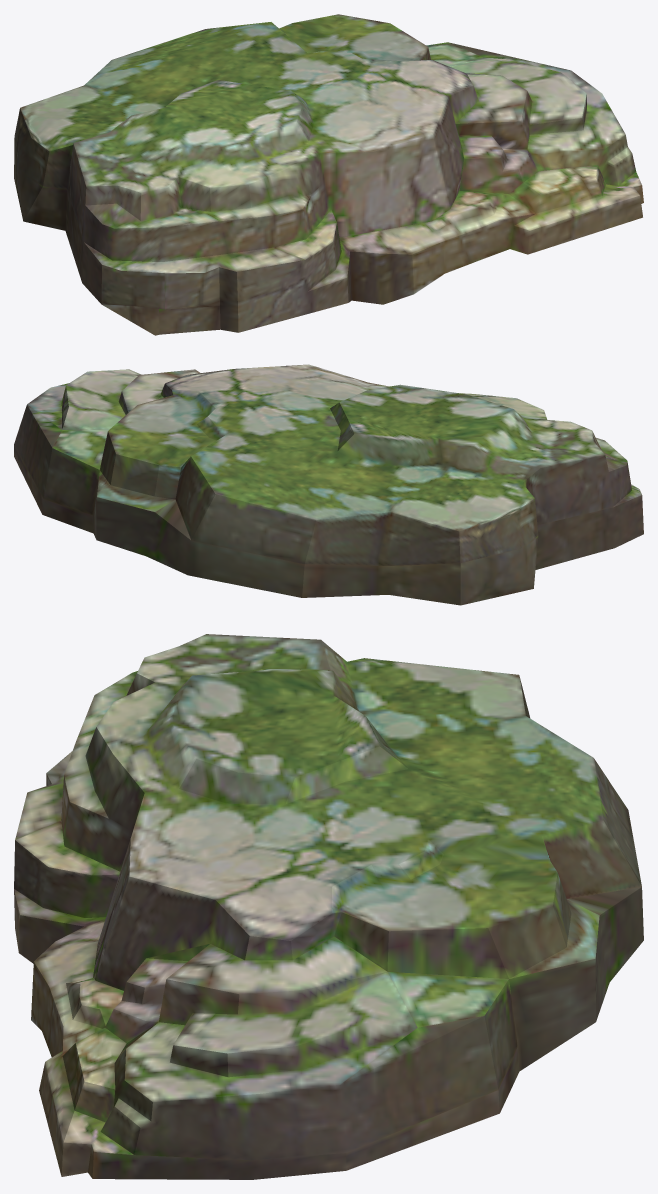
Rendered from S_Rock_Green077_H1.FBX.
3 renders of one model, top to bottom at view 1: azimuth 30°, elevation 25°; view 2: azimuth 150°, elevation 25°; view 3: azimuth 270°, elevation 25°, orthographic. The views are drawn at different scales.
Visible parts, largest first — view 1: S_Rock_Green077_H1; view 2: S_Rock_Green077_H1; view 3: S_Rock_Green077_H1.
Part boxes in pixels (x1,y1,x2,y2): S_Rock_Green077_H1: (14,14,643,335); S_Rock_Green077_H1: (14,364,643,605); S_Rock_Green077_H1: (14,634,643,1179).
Size of the model in its own units: 2577 by 1712 by 701.
Materials: 1 (1 with a texture image).
